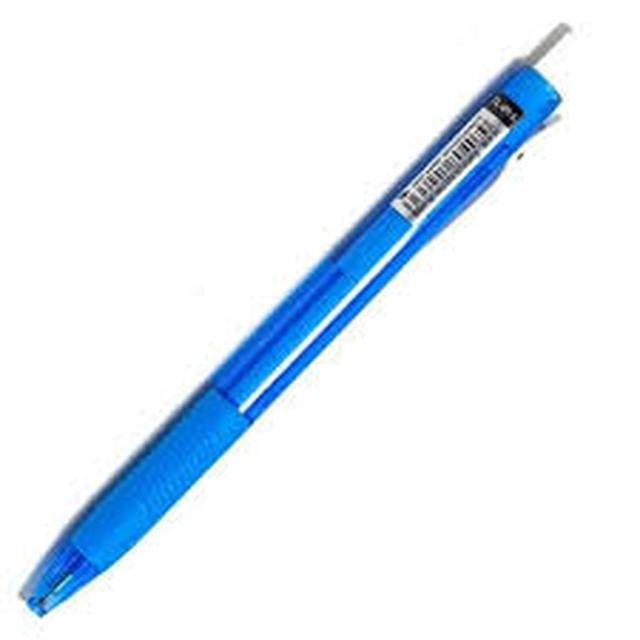pen: (11, 0, 604, 625)
